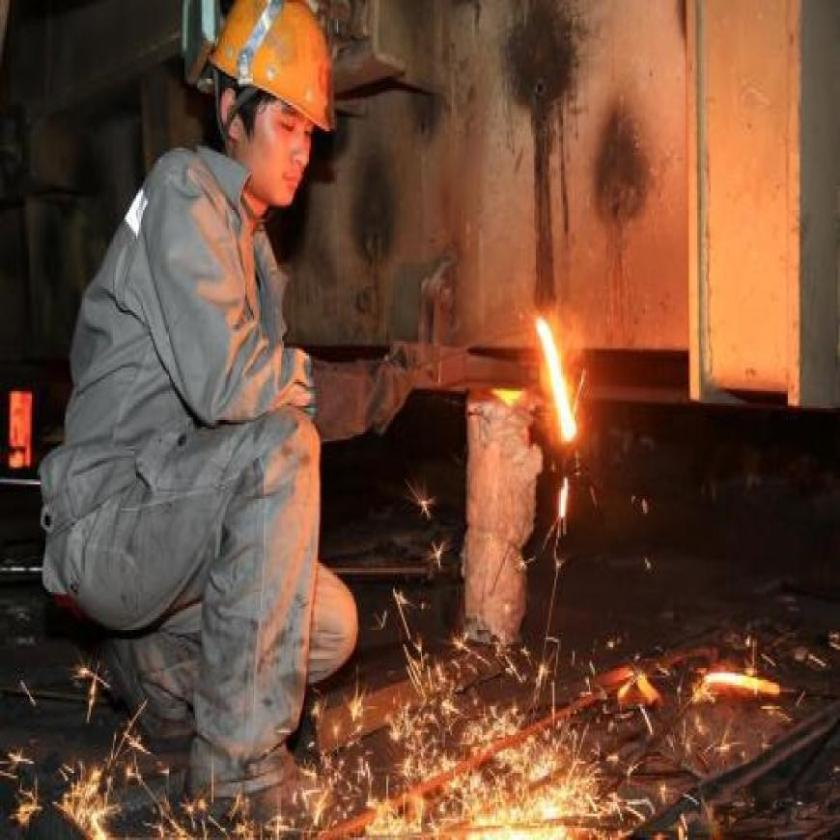Con_casco: (196, 4, 353, 201)
